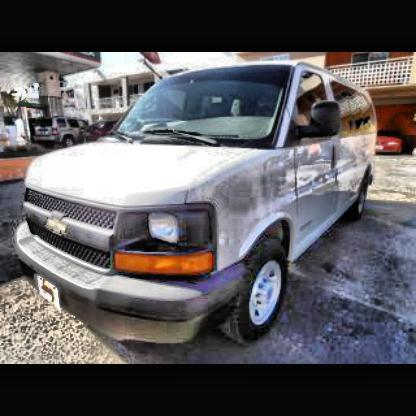Chevrolet Express Van 2007: (16, 62, 376, 354)
